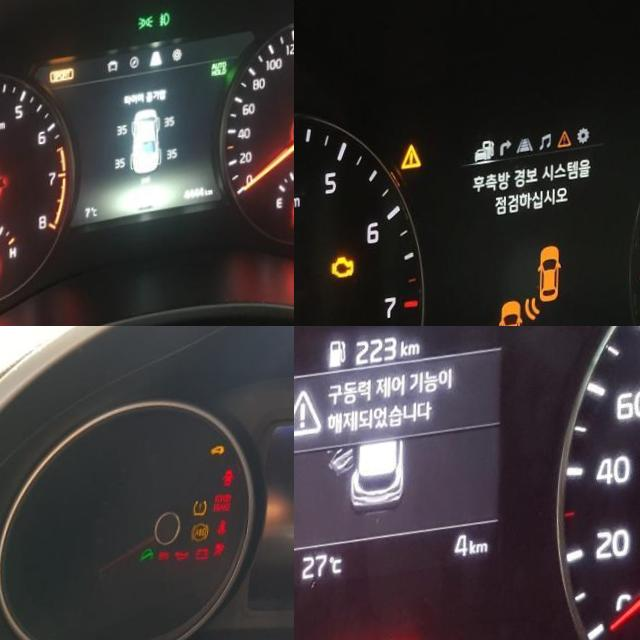Central Warning lamp: (402, 147, 423, 176)
Doors: (222, 475, 236, 493)
FrontFogLight: (158, 19, 171, 36)
SideLamp: (137, 22, 154, 39)
